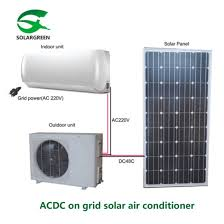ac: (20, 49, 114, 95)
